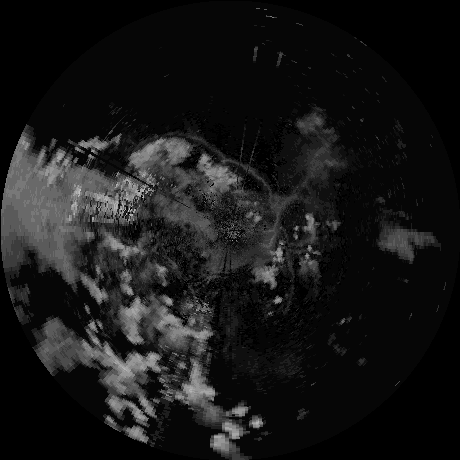frontgust: (227, 159, 276, 202), (183, 132, 225, 161), (280, 240, 293, 308)
